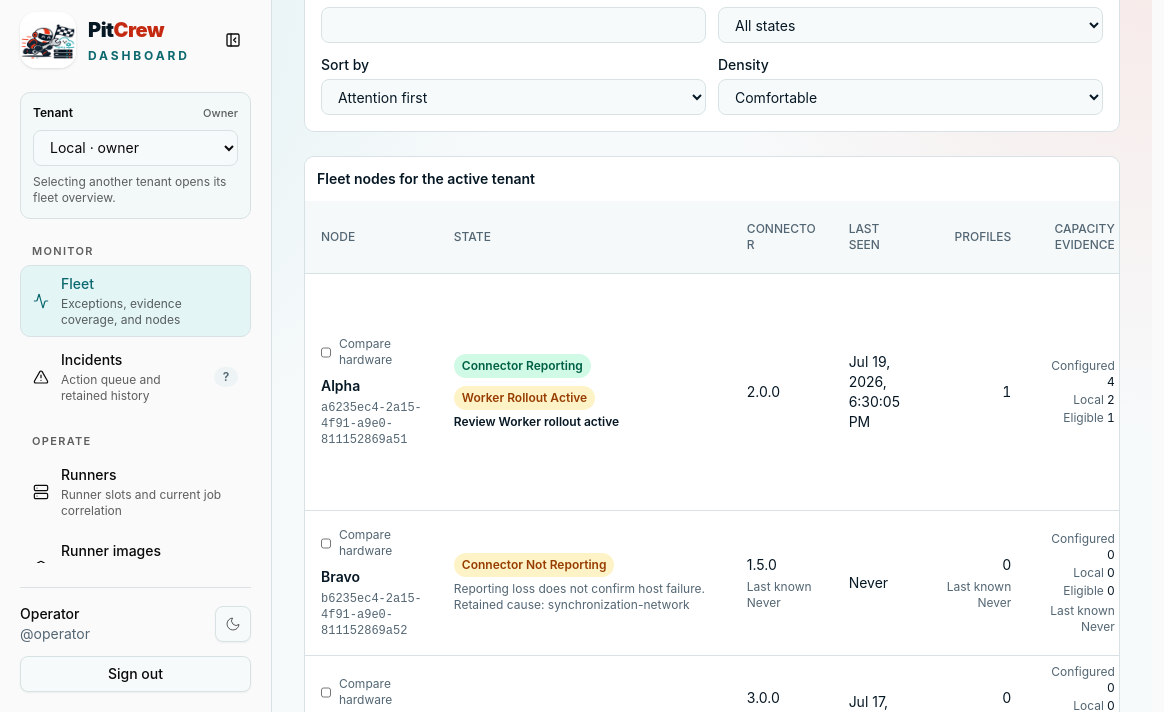
fleet overview and node detail › compares selected node hardware without inferring unavailable fields
(page scrolled)
Click the checkbox named "Compare Alpha": (326, 352) 321,346 -> 331,358
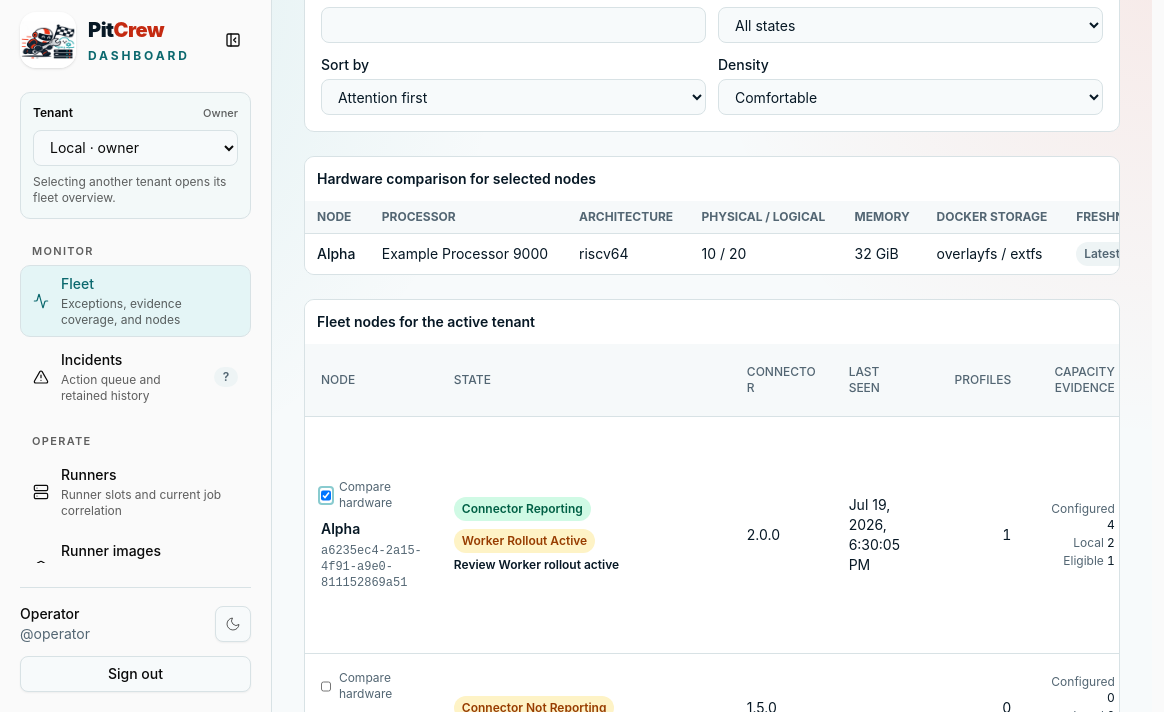
Click the checkbox named "Compare Bravo": (326, 686) 321,680 -> 331,692
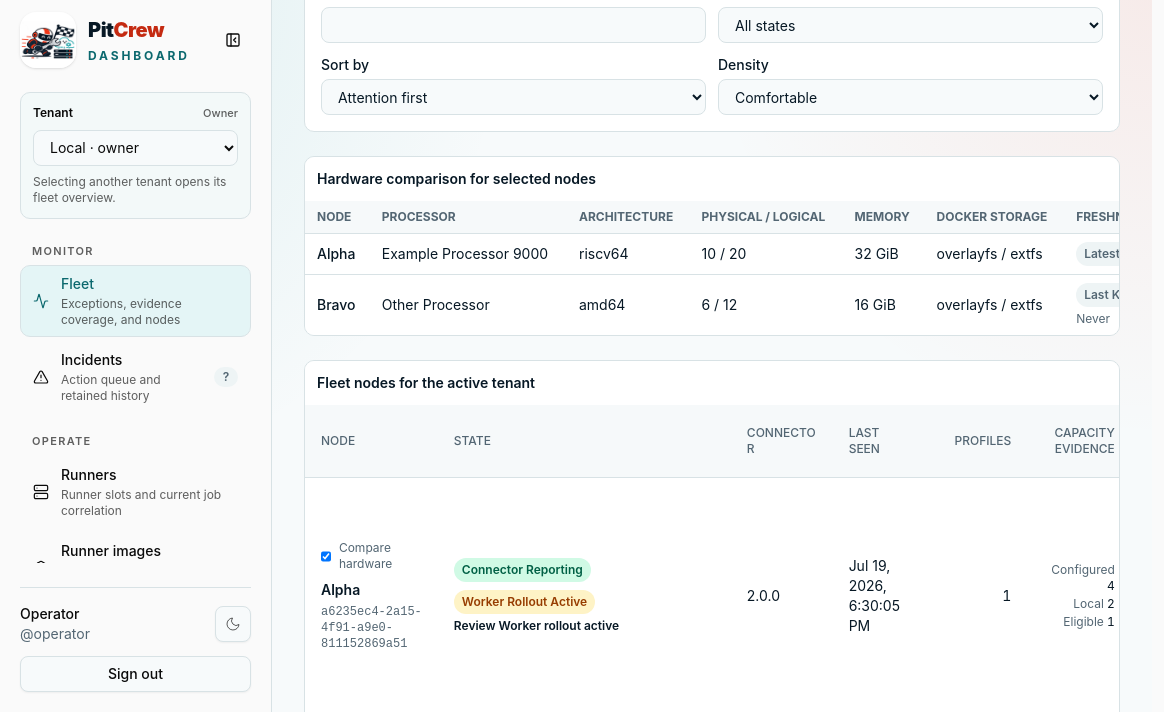
Now the text "Example Processor 9000" is shown, box 370,234 -> 567,274
Now the text "10 / 20" is shown, box 690,234 -> 843,274
Now the text "Other Processor" is shown, box 370,274 -> 567,335
